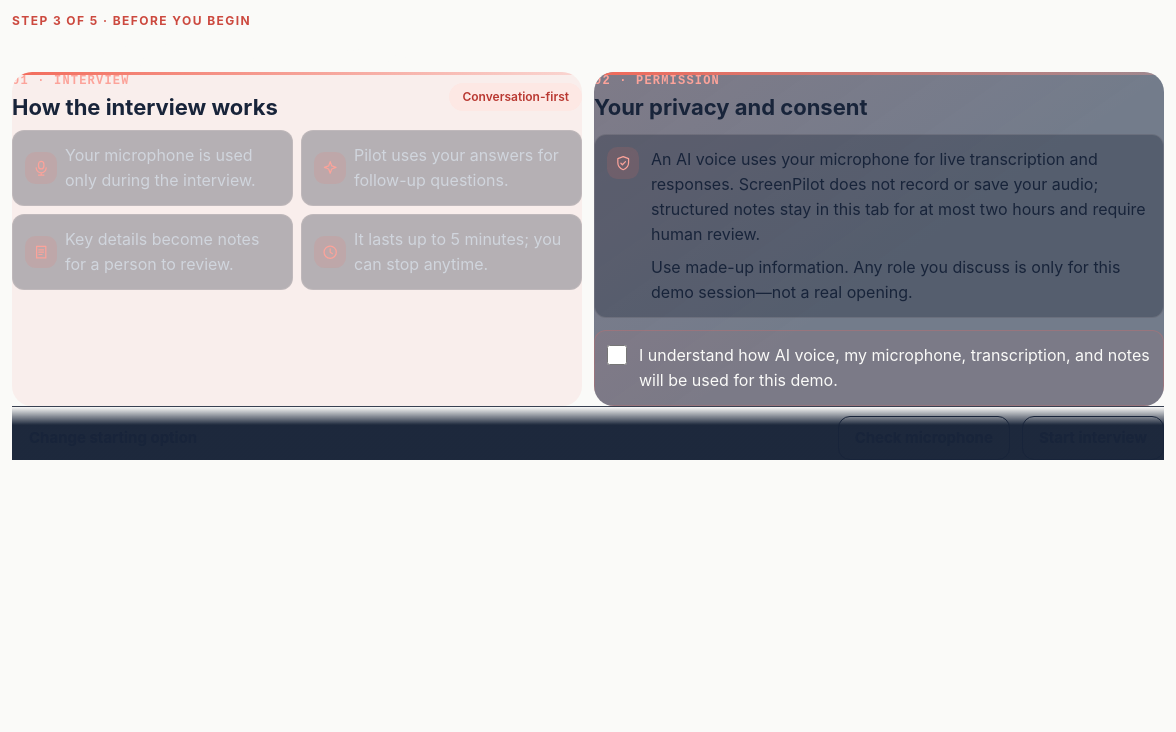
Test: shared voice preflight › requests permission only after consent and reports the selected input and local level
Click the checkbox labelled "I understand how AI voice, my microphone, transcription, and notes will be used".
click(617, 355)  # box x1=607 y1=345 x2=627 y2=365
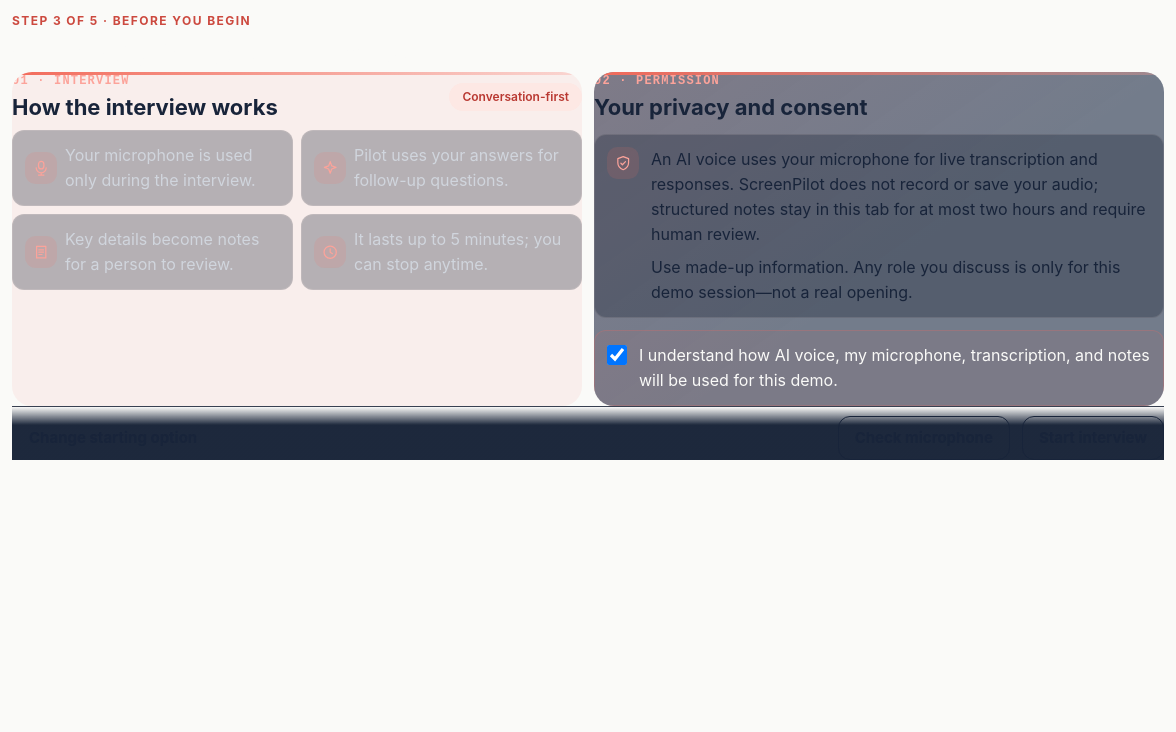
Click the button "Check microphone".
click(924, 438)  # box x1=838 y1=416 x2=1010 y2=460
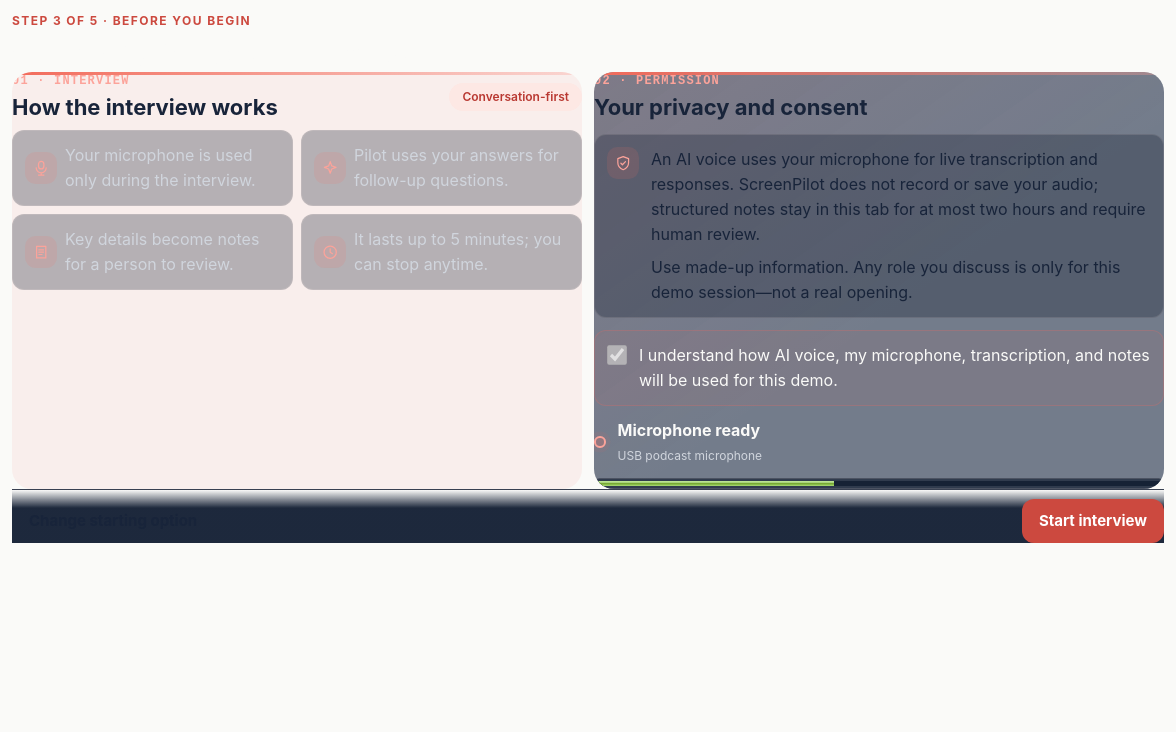
Expected: the text "USB podcast microphone" is shown, x1=618 y1=447 x2=762 y2=466
Expected: the button "Start interview" is enabled, x1=1022 y1=499 x2=1164 y2=543
